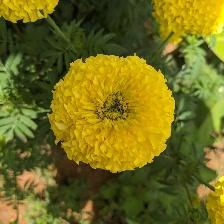marigold: (49, 52, 179, 175)
